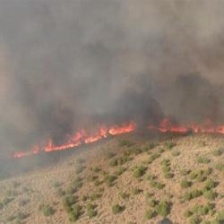fire: (10, 121, 134, 156), (158, 119, 224, 138)
smoke: (10, 1, 191, 100)
